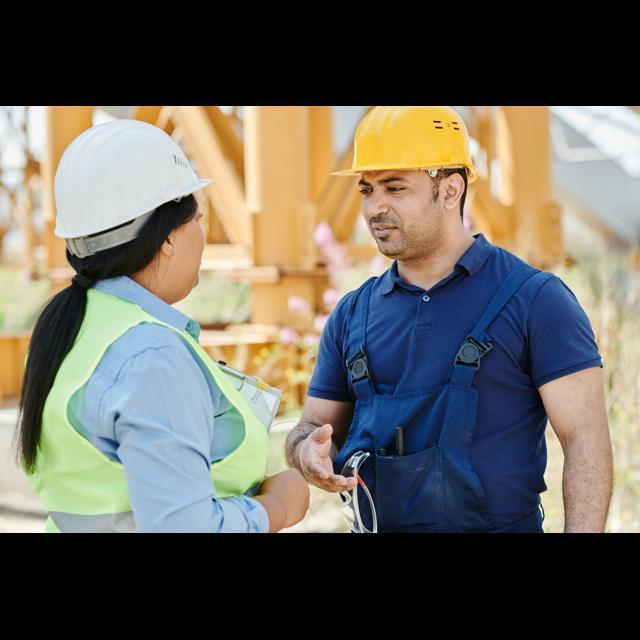Capacete: (54, 119, 211, 256), (331, 106, 476, 182)
Colete: (27, 289, 267, 531)
Oculos: (340, 451, 376, 532)
